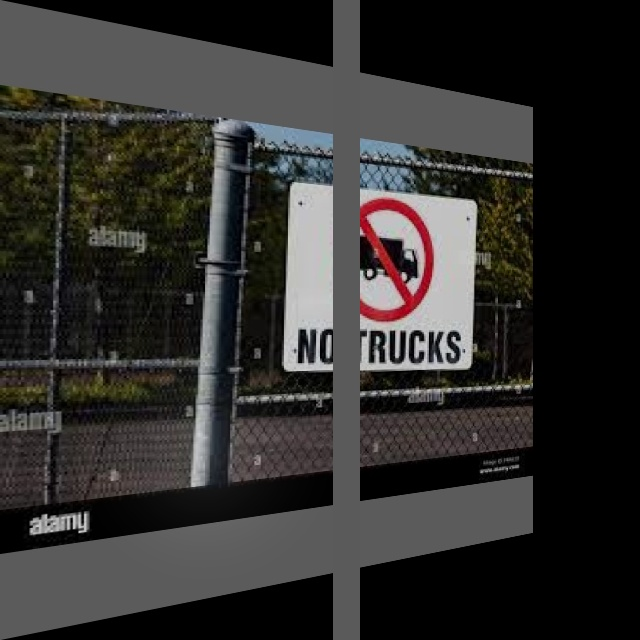Truck_Prohibited: (330, 189, 437, 325)
